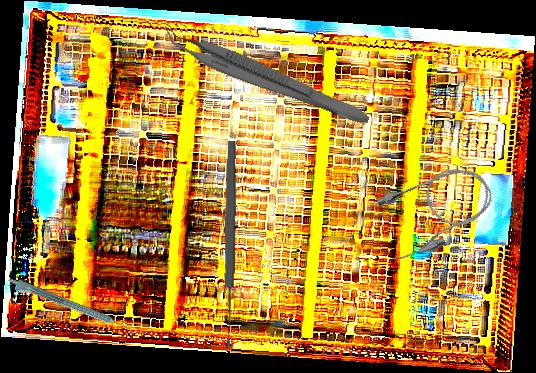Cannula: (368, 154, 504, 268)
Handpiece: (5, 275, 131, 337)
Surgical Spoon: (221, 140, 238, 349)
Tissue Forceps: (157, 21, 377, 129)
